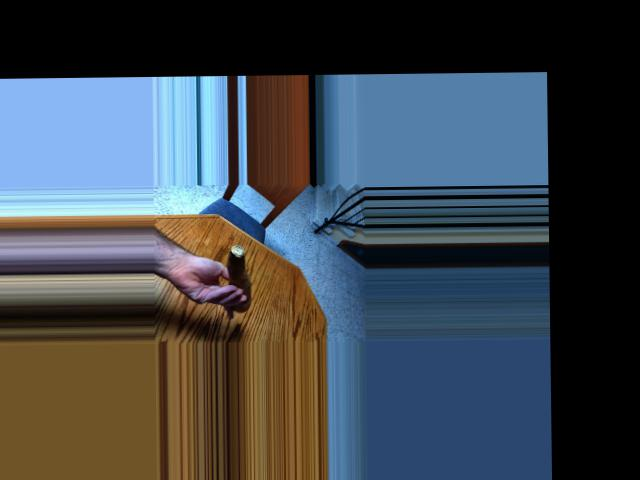sweet_potato: (222, 250, 254, 306)
